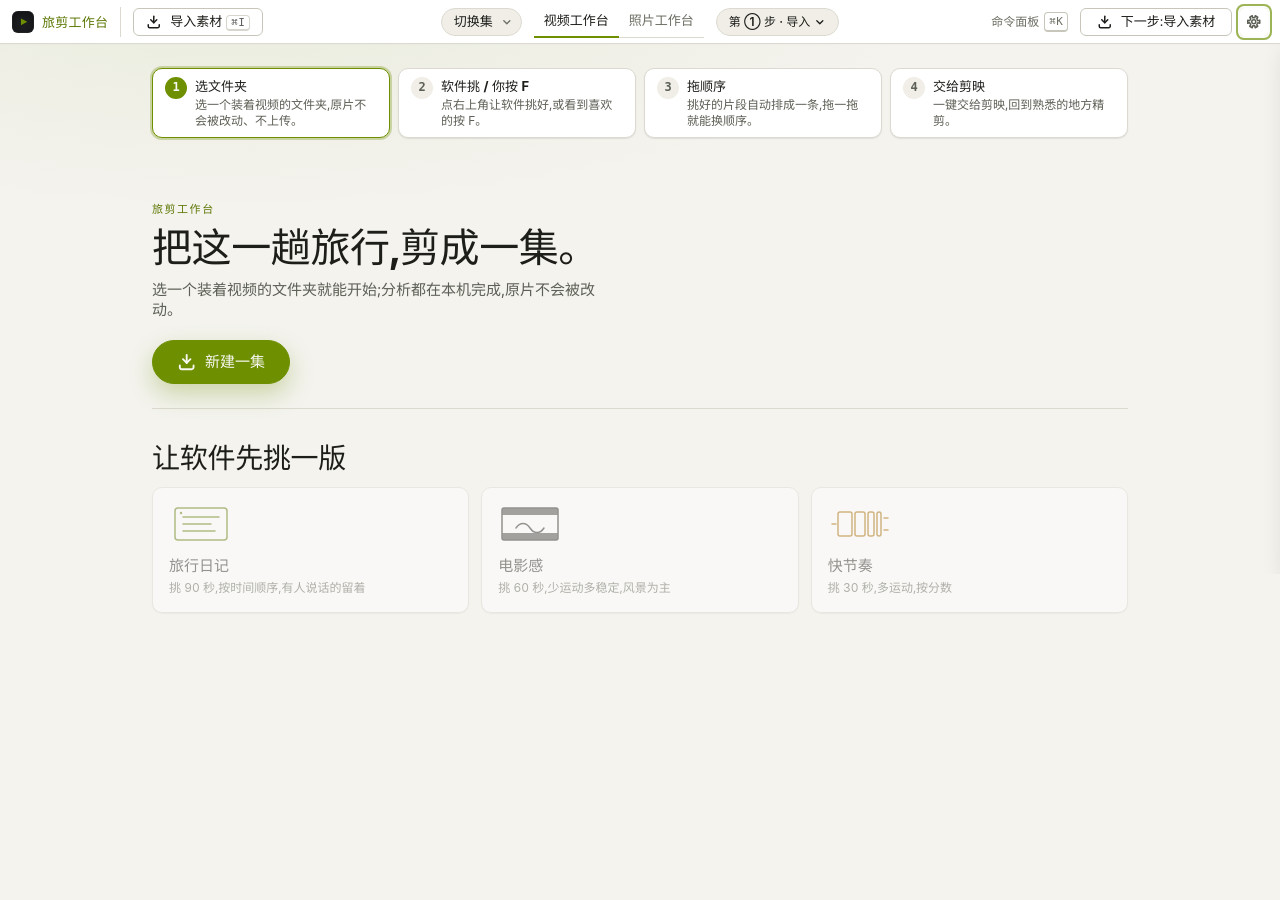
it: 设置 sheet › 分析与 AI:三条阈值 + 六轴权重 range,provider 未锁定时不许启用 L3
Click the button named "设置" at (1254, 22), box [1240,8,1268,36]
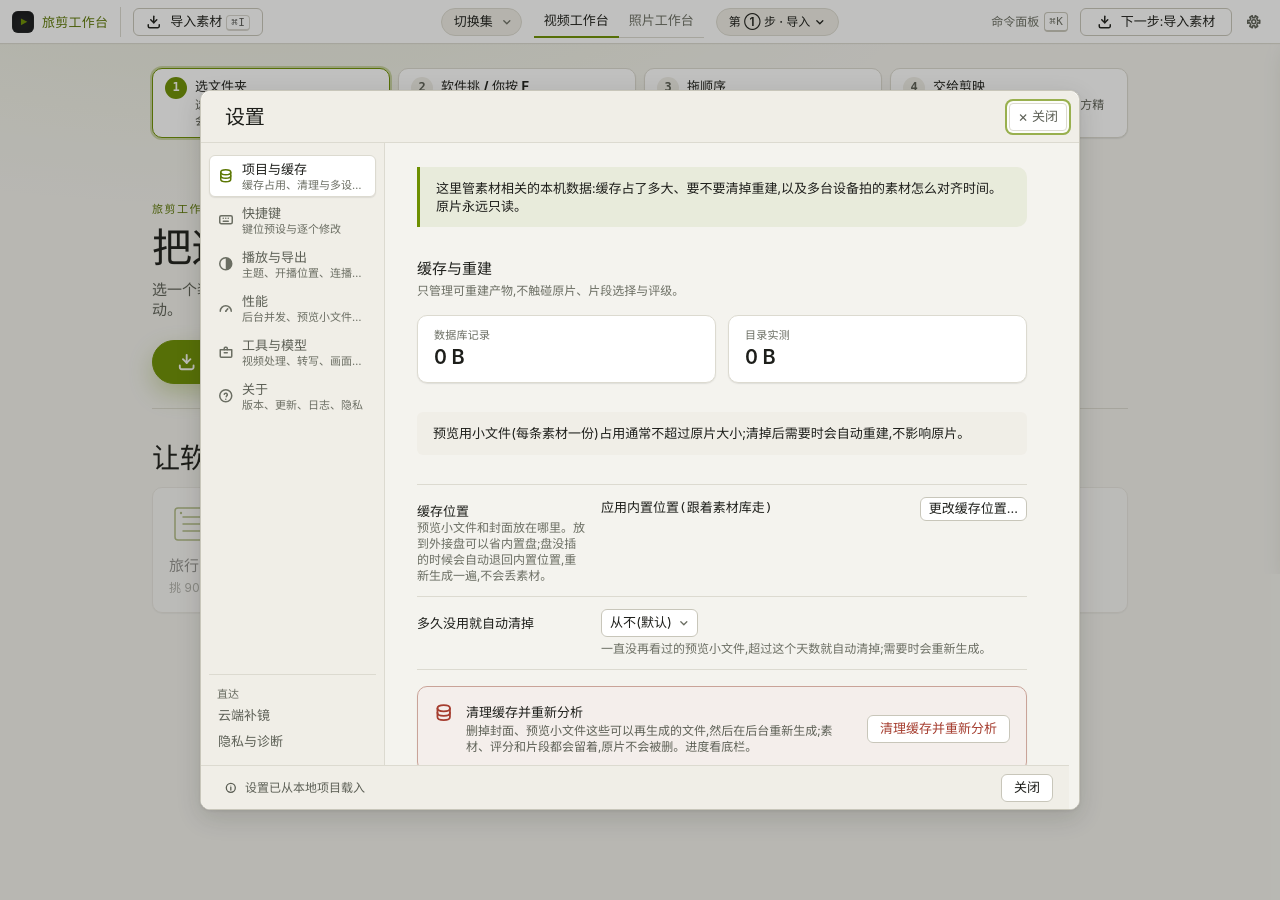
Expected: the message reads "设置已从本地项目载入", [245,780,365,794]
Click the tab "工具与模型 视频处理、转写、画面识别、云端补镜" at (292, 352), box [209,331,376,373]
(page scrolled)
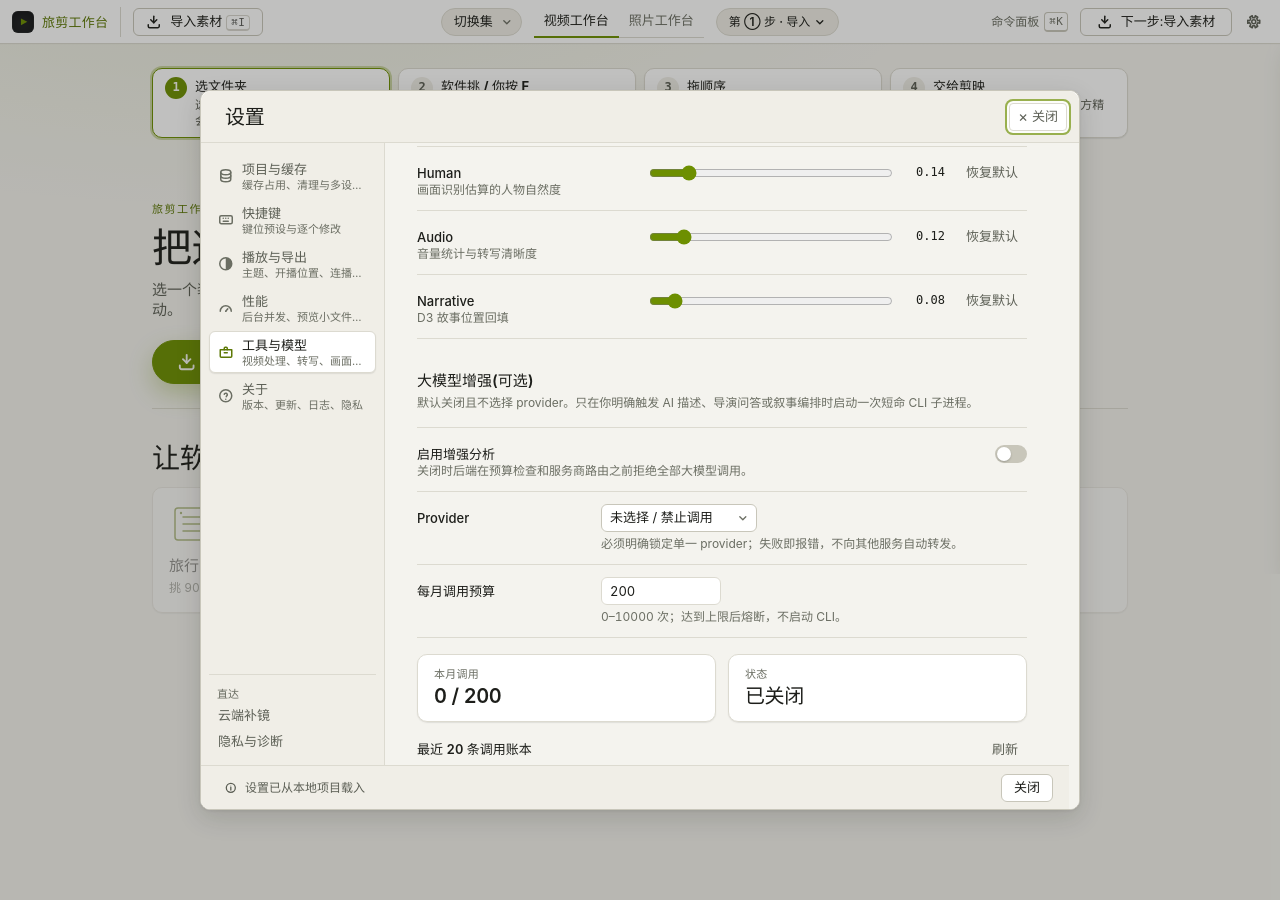
Expected: the slider named "Narrative" is shown, [649,293,893,309]
Click the switch named "启用增强分析" at (1011, 454), box [995,445,1027,463]
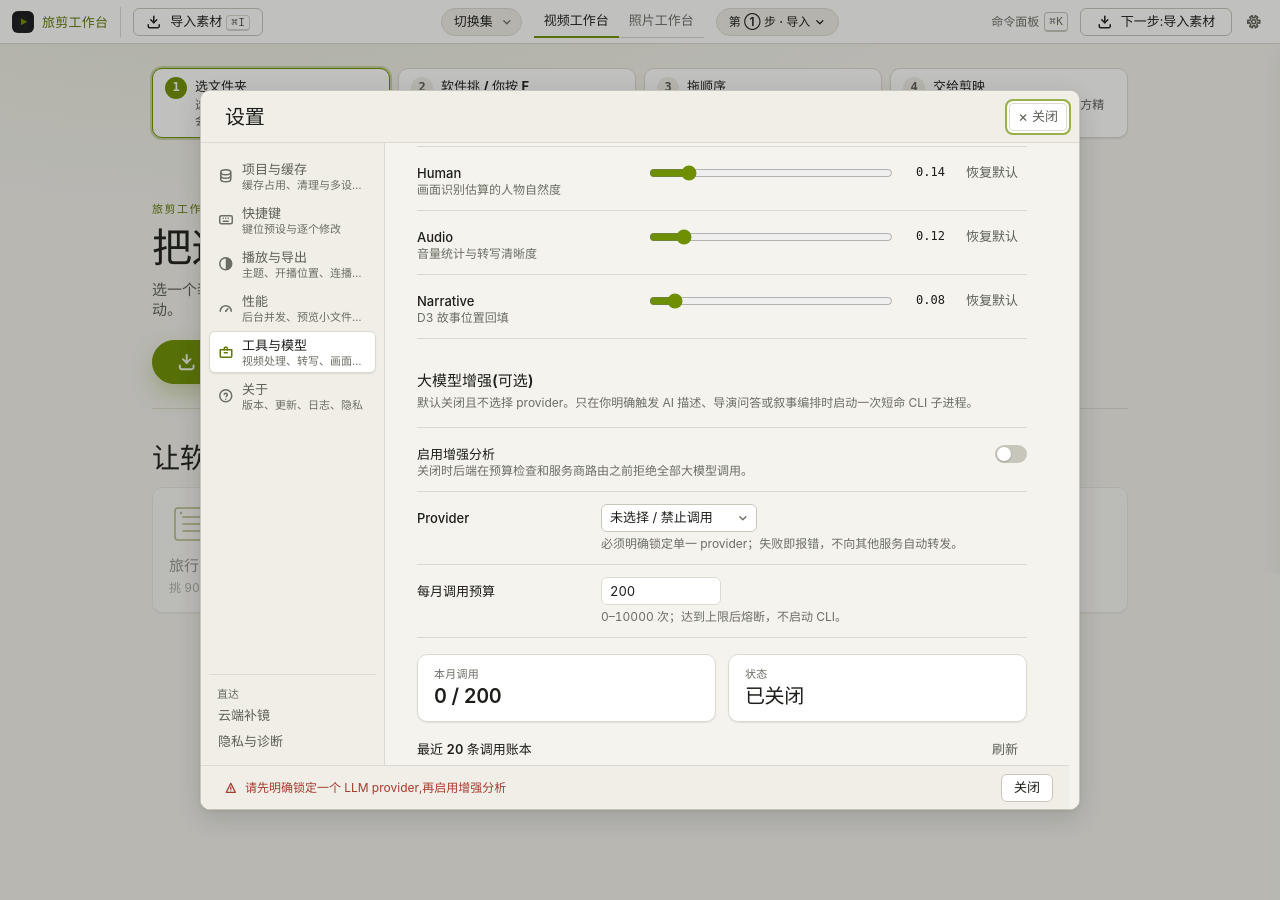
Expected: the dropdown labelled "Provider" is shown, [601,504,757,532]
Expected: the message reads "请先明确锁定一个 LLM provider,再启用增强分析", [245,780,506,794]
